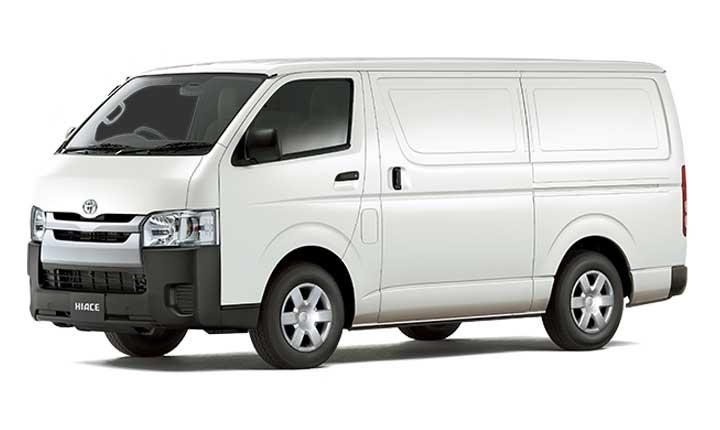van: (26, 55, 687, 369)
